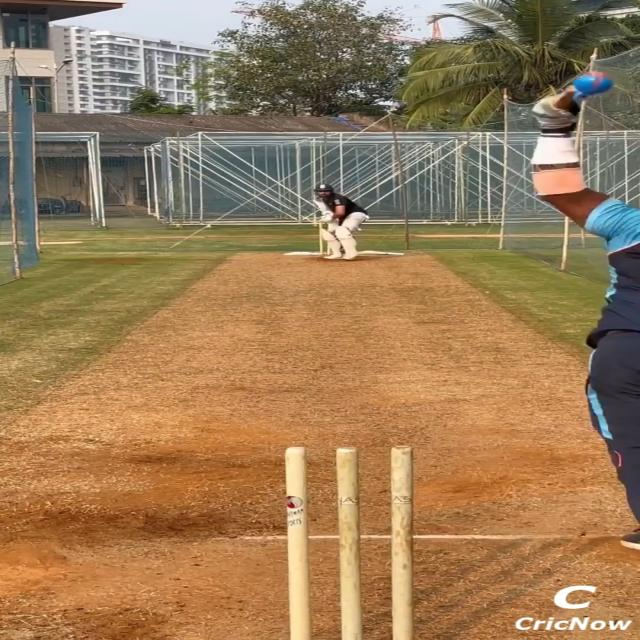stump: (282, 445, 424, 640)
